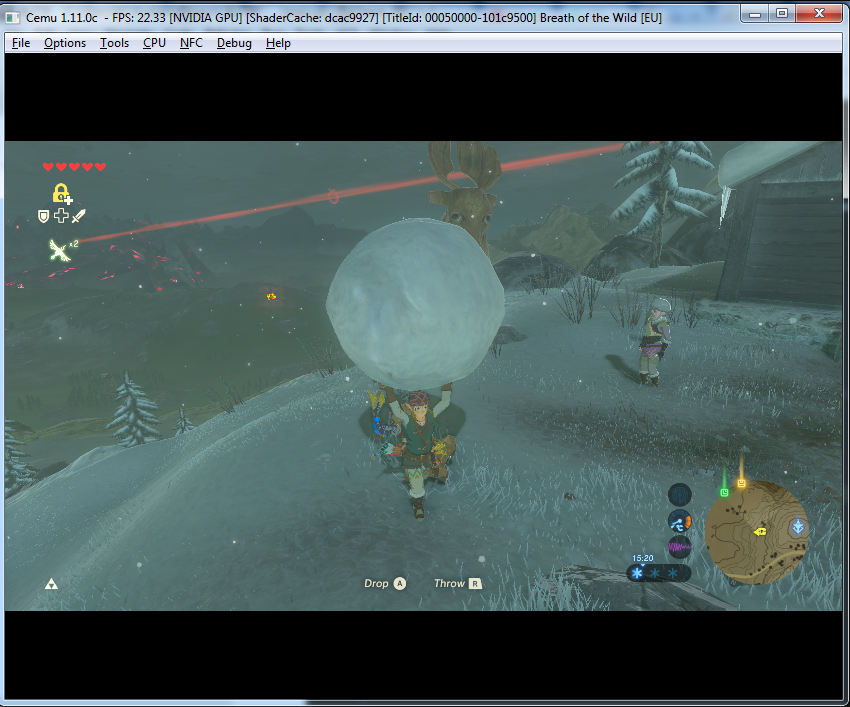dude: (627, 296, 678, 390)
link: (354, 372, 475, 518)
snowball: (324, 209, 517, 392)
